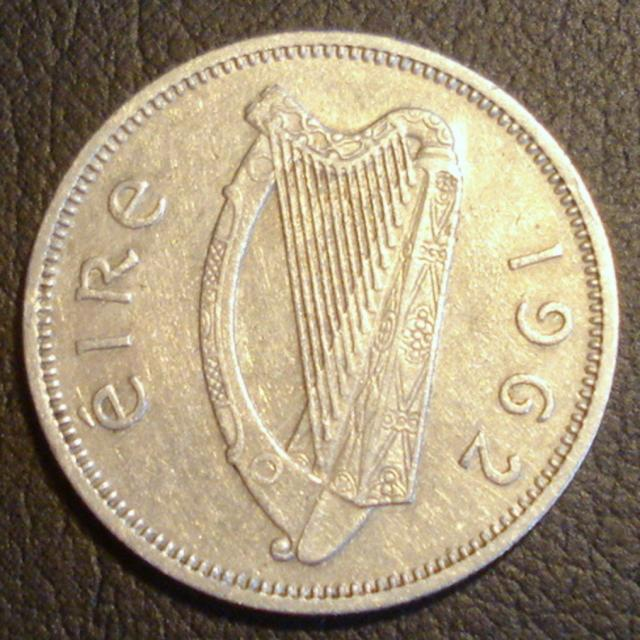Coin: (16, 29, 618, 619)
